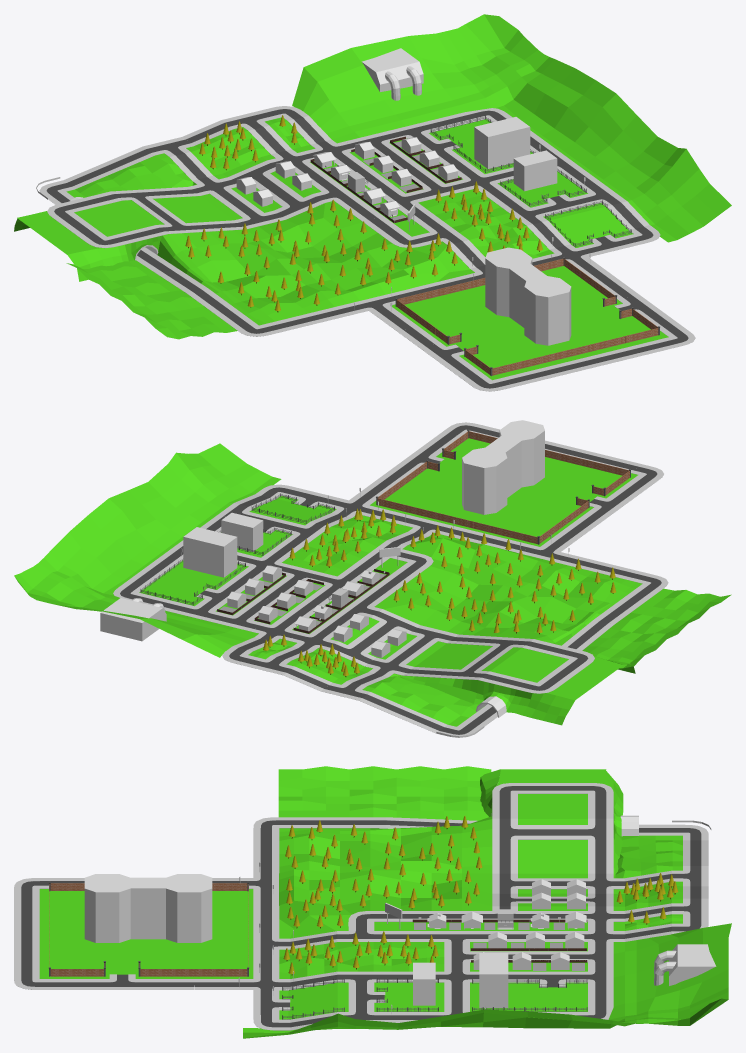
The model's file is Streets.fbx.
The picture shows the model from 3 angles, top to bottom: view 1: azimuth 30°, elevation 25°; view 2: azimuth 150°, elevation 25°; view 3: azimuth 270°, elevation 25°; orthographic projection. The views are drawn at different scales.
Visible parts, largest first — view 1: Roads, Plane.008, Plane.067, Plane.082, Cube.117, Plane.114, Plane.044, Plane.112, Cube, Building2.001, Plane.053, Plane.107 (+9 smaller); view 2: Roads, Plane.008, Plane.067, Plane.082, Cube.117, Plane.114, Plane.111, Plane.044, Plane.112, Cube, Building1, Cube.225 (+8 smaller); view 3: Roads, Plane.067, Plane.008, Plane.082, Plane.114, Cube.117, Plane.044, Plane.109, Building1, Plane.112, Plane.107, Building2.001 (+12 smaller).
Boxes of the visible parts, x1,y1,x2,y2 form: Roads: [39, 106, 695, 391]; Plane.008: [292, 14, 731, 242]; Plane.067: [157, 201, 474, 325]; Plane.082: [392, 266, 668, 380]; Cube.117: [485, 247, 571, 345]; Plane.114: [66, 260, 237, 339]; Plane.044: [418, 189, 554, 258]; Plane.112: [66, 153, 193, 197]; Cube: [474, 117, 530, 168]; Building2.001: [543, 203, 633, 247]; Plane.053: [186, 127, 275, 179]; Plane.107: [74, 200, 164, 236]; Roads: [113, 422, 668, 736]; Plane.008: [14, 443, 281, 657]; Plane.067: [374, 533, 642, 645]; Plane.082: [370, 438, 637, 546]; Cube.117: [462, 420, 544, 514]; Plane.114: [582, 588, 731, 668]; Plane.111: [390, 673, 574, 725]; Plane.044: [282, 515, 412, 576]; Plane.112: [362, 676, 484, 726]; Cube: [183, 527, 237, 577]; Building1: [139, 560, 248, 606]; Cube.225: [100, 598, 166, 641]; Roads: [14, 783, 708, 1030]; Plane.067: [279, 816, 492, 938]; Plane.008: [243, 923, 731, 1038]; Plane.082: [39, 889, 253, 978]; Plane.114: [278, 766, 491, 820]; Cube.117: [84, 874, 212, 942]; Plane.044: [279, 942, 444, 978]; Plane.109: [518, 840, 587, 878]; Building1: [470, 982, 587, 1011]; Plane.112: [615, 835, 682, 878]; Plane.107: [518, 794, 587, 824]; Building2.001: [279, 982, 348, 1019].
Bounding box in the file's own units: 13685 × 1481 × 14841.
